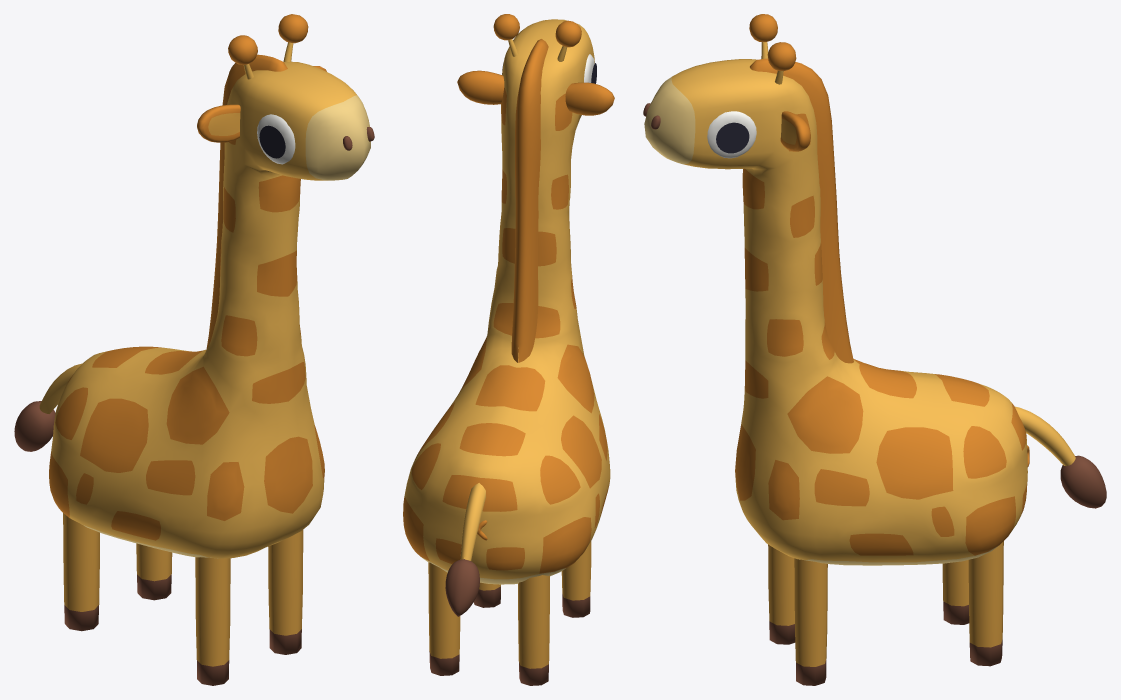
The model's file is Giraffe.glb.
3 renders of one model, left to right at view 1: azimuth 30°, elevation 25°; view 2: azimuth 150°, elevation 25°; view 3: azimuth 270°, elevation 25°, orthographic. The views are drawn at different scales.
Parts seen in each view (by area): view 1: Giraffe; view 2: Giraffe; view 3: Giraffe.
Boxes of the visible parts, x1,y1,x2,y2 form: Giraffe: (14,14,374,685); Giraffe: (403,14,614,685); Giraffe: (643,14,1106,685).
Size of the model in its own units: 1.68 by 5.04 by 3.35.
Materials: 1 (1 with a texture image).
